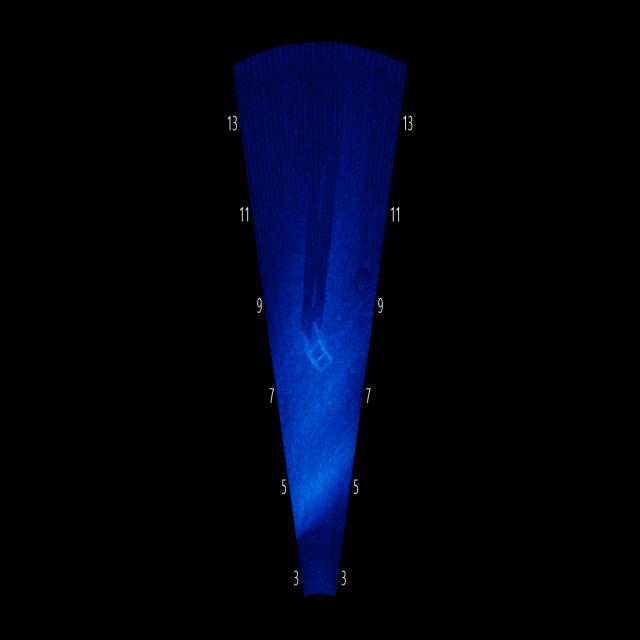square: (295, 305, 344, 382)
